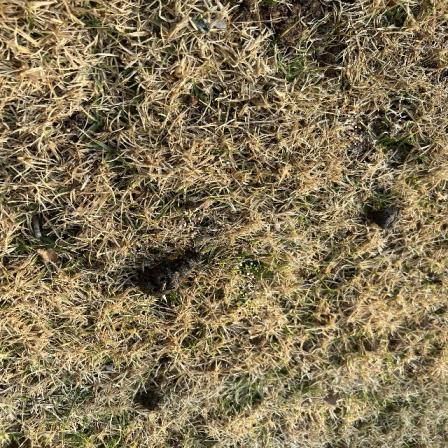dog-poop: (140, 241, 198, 296)
